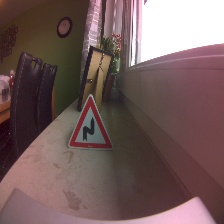vorsicht: (64, 94, 117, 153)
